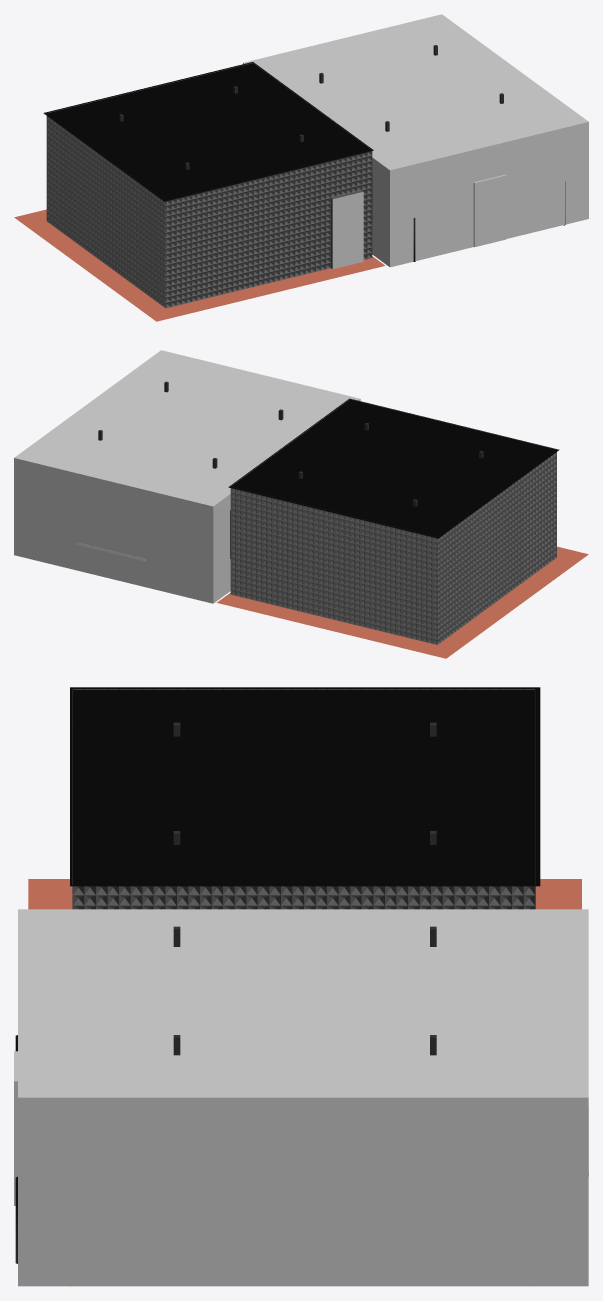
File: studio.fbx
The picture shows the model from 3 angles, top to bottom: view 1: azimuth 30°, elevation 25°; view 2: azimuth 150°, elevation 25°; view 3: azimuth 270°, elevation 25°; orthographic projection. The views are drawn at different scales.
Visible parts, largest first — view 1: Plane; view 2: Plane; view 3: Plane.
Part boxes in pixels (x1=…): Plane: x1=14, y1=14, x2=588, y2=321; Plane: x1=14, y1=350, x2=588, y2=658; Plane: x1=14, y1=687, x2=588, y2=1286.
Size of the model in its own units: 30.08 by 7.62 by 17.95.
